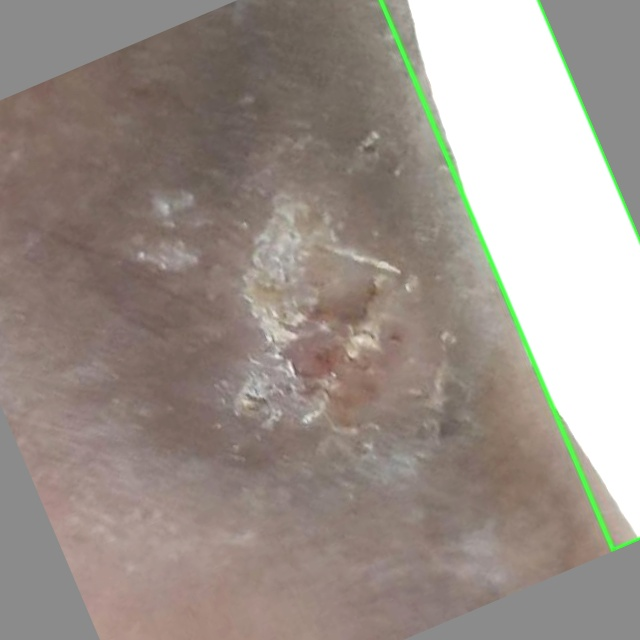Eczema: (380, 0, 639, 550)
